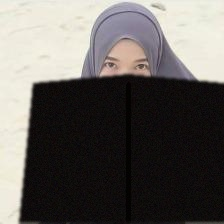Cadar_Niqab: (19, 0, 224, 222)
